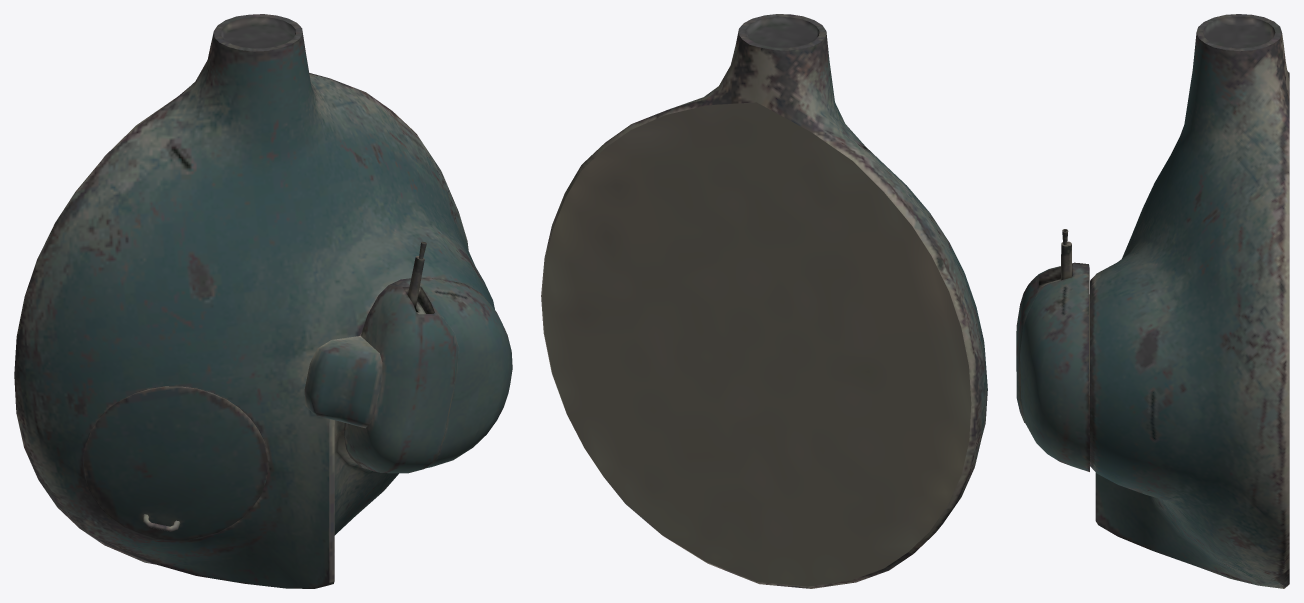
Rendered from Turret_02.glb.
The picture shows the model from 3 angles, left to right: view 1: azimuth 30°, elevation 25°; view 2: azimuth 150°, elevation 25°; view 3: azimuth 270°, elevation 25°; orthographic projection.
Parts seen in each view (by area): view 1: set_0_group_0; view 2: set_0_group_0; view 3: set_0_group_0.
Boxes of the visible parts, x1,y1,x2,y2 form: set_0_group_0: (14,14,512,588); set_0_group_0: (541,14,987,588); set_0_group_0: (1016,14,1289,588).
Size of the model in its own units: 1.54 by 1.8 by 0.8343.
Materials: 1 (1 with a texture image).
